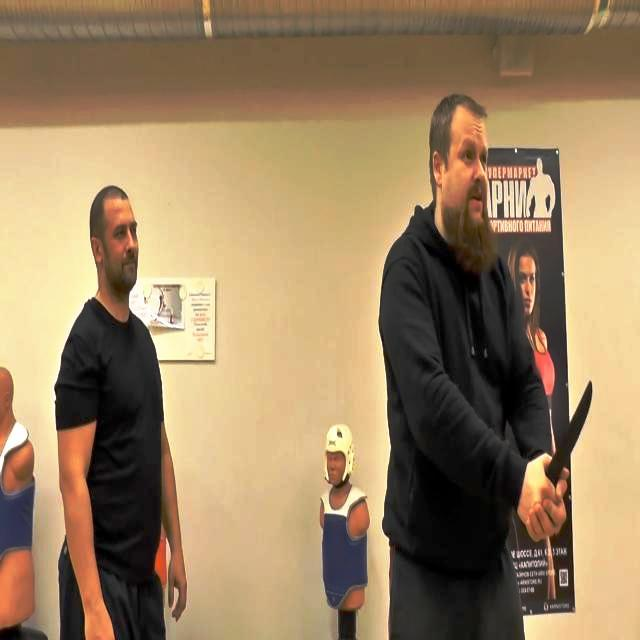Knife: (550, 372, 599, 512)
